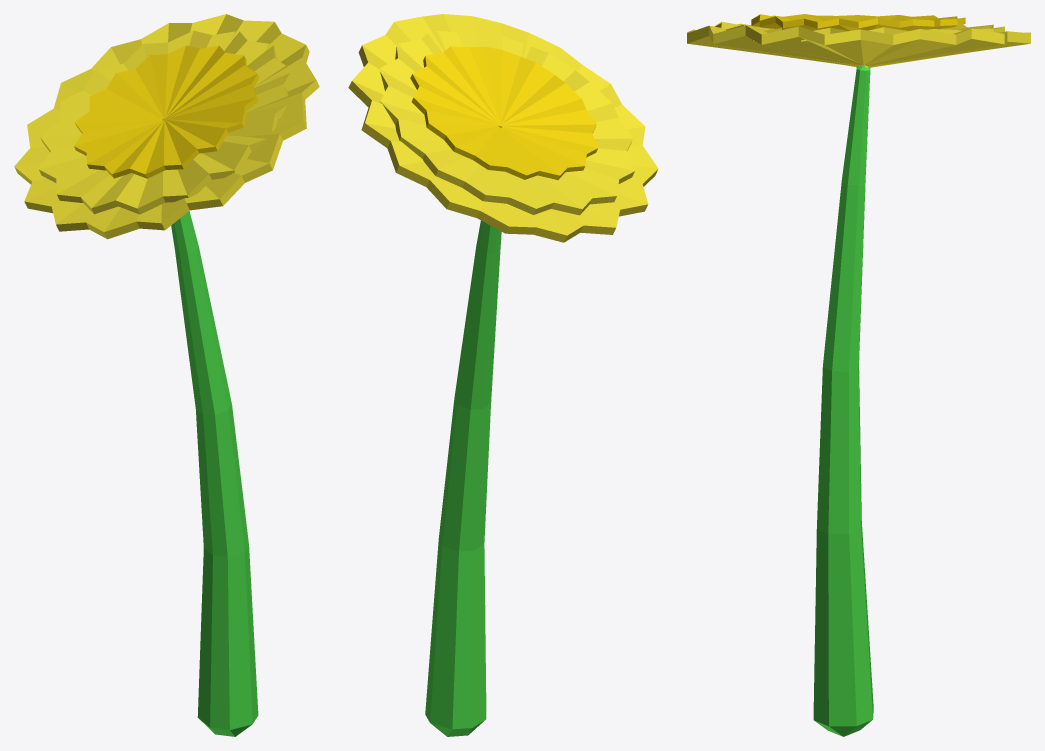
File: Dandelion.fbx
3 views of the same model, side by side, from view 1: azimuth 30°, elevation 25°; view 2: azimuth 150°, elevation 25°; view 3: azimuth 270°, elevation 25° (orthographic). The views are drawn at different scales.
Visible parts, largest first — view 1: Circle; view 2: Circle; view 3: Circle.
Boxes of the visible parts, bbox=[...] form: Circle: bbox=[14, 14, 319, 736]; Circle: bbox=[348, 14, 658, 736]; Circle: bbox=[687, 14, 1030, 736].
Size of the model in its own units: 15.57 by 39.72 by 16.87.
